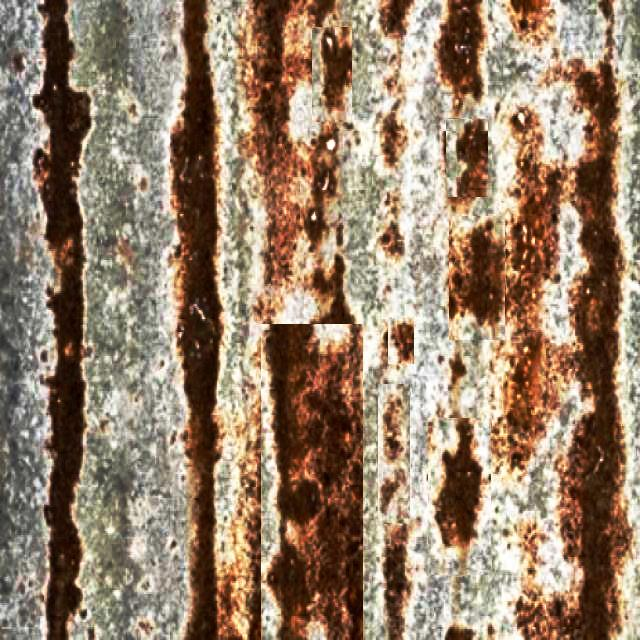Corrosion: (254, 0, 363, 640), (564, 0, 630, 582), (33, 0, 90, 640), (171, 0, 222, 640), (514, 163, 559, 305), (437, 420, 483, 548), (451, 221, 505, 324), (507, 334, 545, 470), (442, 0, 485, 108), (458, 119, 489, 198), (322, 27, 352, 108), (382, 104, 408, 165), (381, 0, 414, 34), (393, 323, 415, 362), (381, 222, 405, 256), (447, 629, 474, 640)
